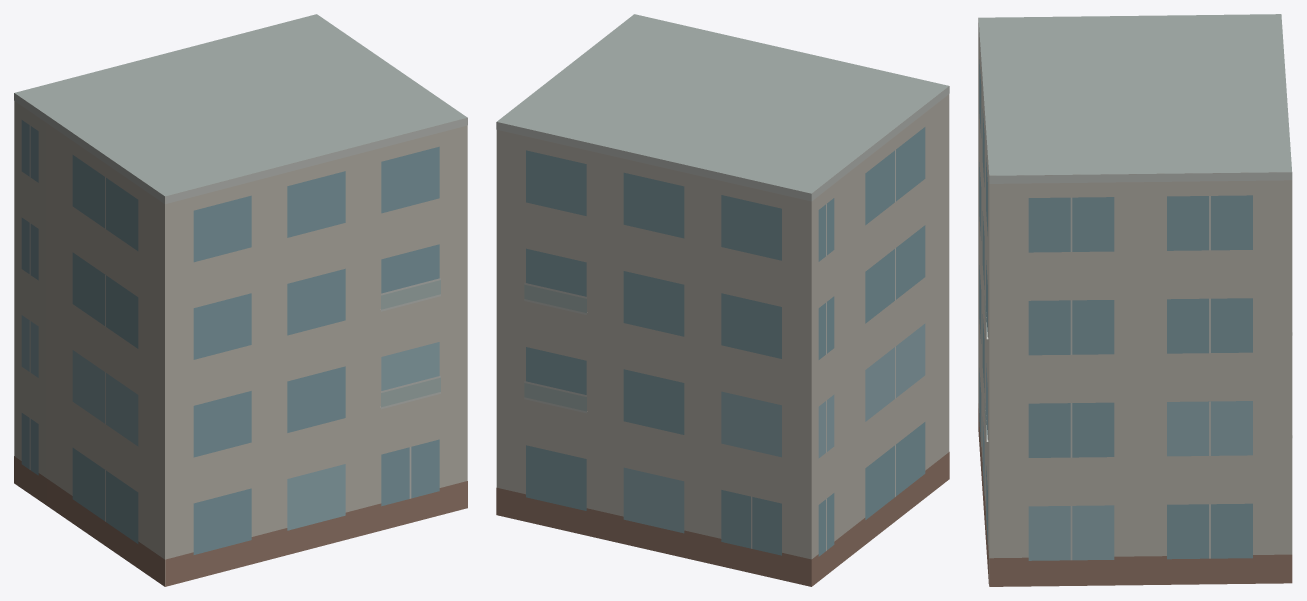
The model's file is residential-e9ee4951-d72e-4f85-bfd7-06b873964123.glb.
3 renders of one model, left to right at view 1: azimuth 30°, elevation 25°; view 2: azimuth 150°, elevation 25°; view 3: azimuth 270°, elevation 25°, orthographic. The views are drawn at different scales.
Parts seen in each view (by area): view 1: residential-e9ee4951-d72e-4f85-bfd7-06b873964123.tmp; view 2: residential-e9ee4951-d72e-4f85-bfd7-06b873964123.tmp; view 3: residential-e9ee4951-d72e-4f85-bfd7-06b873964123.tmp.
Boxes of the visible parts, x1,y1,x2,y2 form: residential-e9ee4951-d72e-4f85-bfd7-06b873964123.tmp: [14, 14, 467, 586]; residential-e9ee4951-d72e-4f85-bfd7-06b873964123.tmp: [496, 14, 949, 586]; residential-e9ee4951-d72e-4f85-bfd7-06b873964123.tmp: [978, 14, 1292, 586].
Size of the model in its own units: 10.31 by 12.2 by 8.46.
